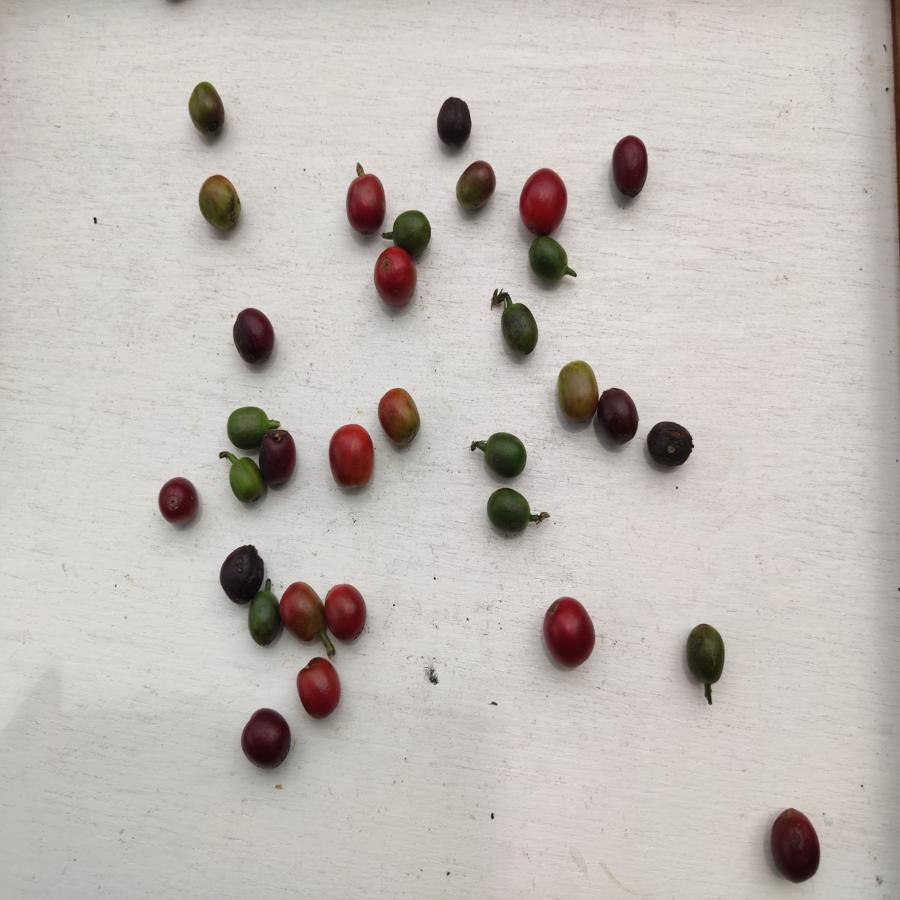Inmaduro: (684, 620, 730, 686), (483, 485, 532, 539), (498, 300, 543, 356), (525, 235, 574, 281), (484, 432, 528, 479), (225, 401, 262, 453), (249, 589, 281, 647), (229, 456, 262, 507), (391, 210, 434, 249)
Maduro: (543, 593, 595, 669), (328, 424, 377, 495), (520, 166, 568, 233), (369, 249, 419, 311), (296, 657, 341, 720), (324, 585, 371, 645), (279, 581, 322, 642), (346, 171, 386, 234)
Pinton: (556, 357, 597, 427), (197, 174, 241, 237), (378, 385, 422, 442), (185, 82, 228, 139), (455, 157, 495, 210)
Sobremaduro: (768, 805, 825, 889), (242, 708, 293, 768), (230, 305, 276, 368), (597, 384, 644, 445), (611, 135, 655, 198), (219, 546, 265, 602), (645, 419, 695, 470), (262, 429, 297, 488), (158, 477, 200, 526), (438, 97, 472, 148)
